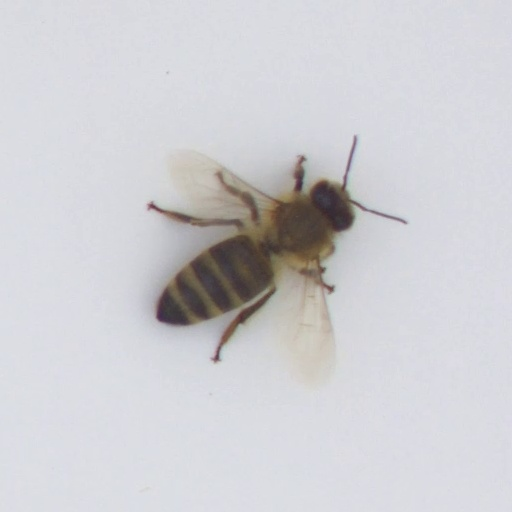Bee: (132, 170, 376, 343)
Thorax: (264, 191, 335, 262)
